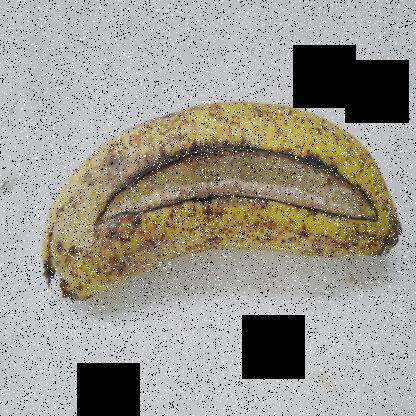rotten: (85, 122, 390, 239), (34, 233, 78, 312)
